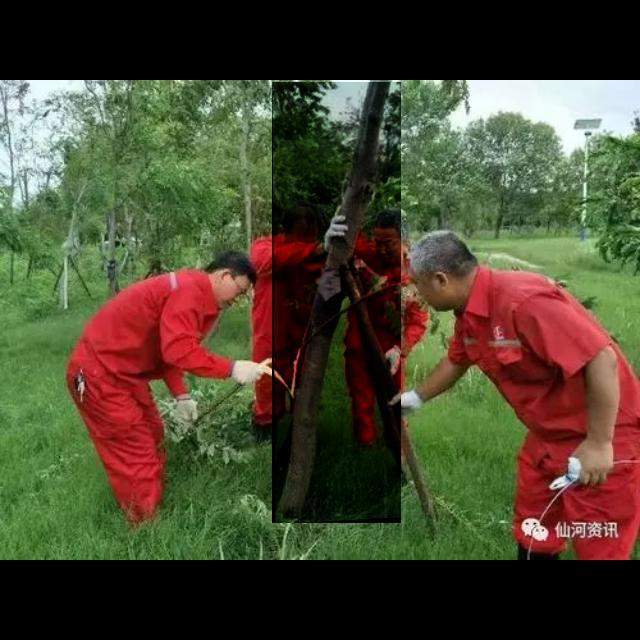fallen_tree: (272, 82, 402, 524)
